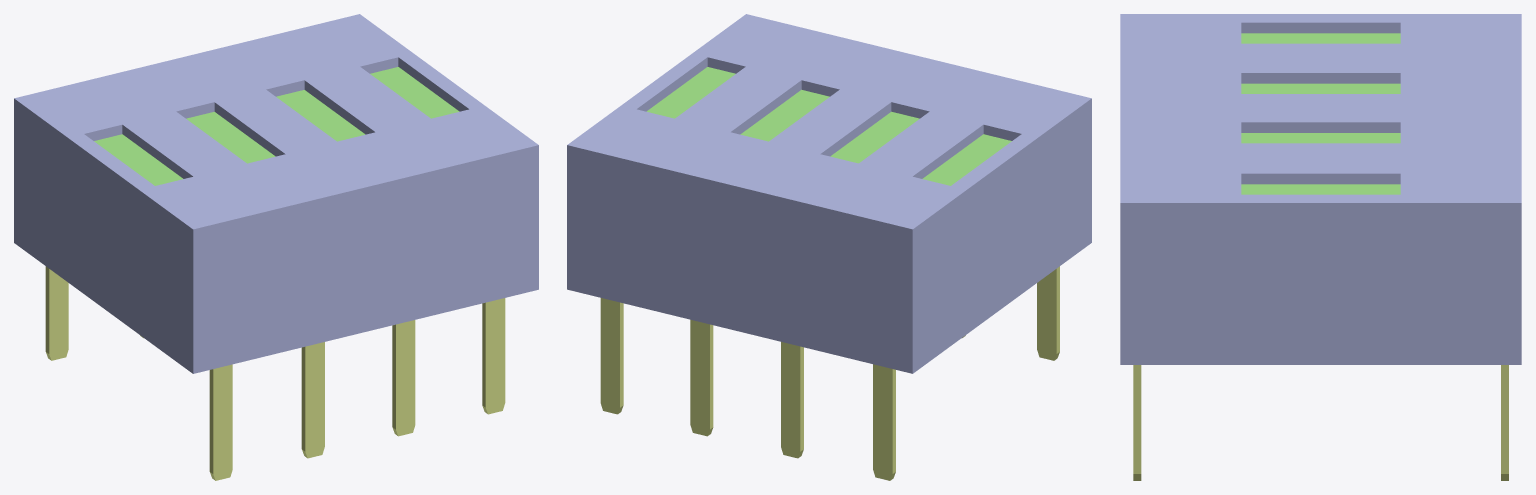
Rendered from dip4.fbx.
3 views of the same model, side by side, from view 1: azimuth 30°, elevation 25°; view 2: azimuth 150°, elevation 25°; view 3: azimuth 270°, elevation 25° (orthographic). The views are drawn at different scales.
Visible parts, largest first — view 1: Cube.002; view 2: Cube.002; view 3: Cube.002.
Part boxes in pixels (x1,y1,x2,y2): Cube.002: (14,14,538,480); Cube.002: (567,14,1091,480); Cube.002: (1120,14,1521,480).
Bounding box in the file's own units: 379 × 275 × 340.
